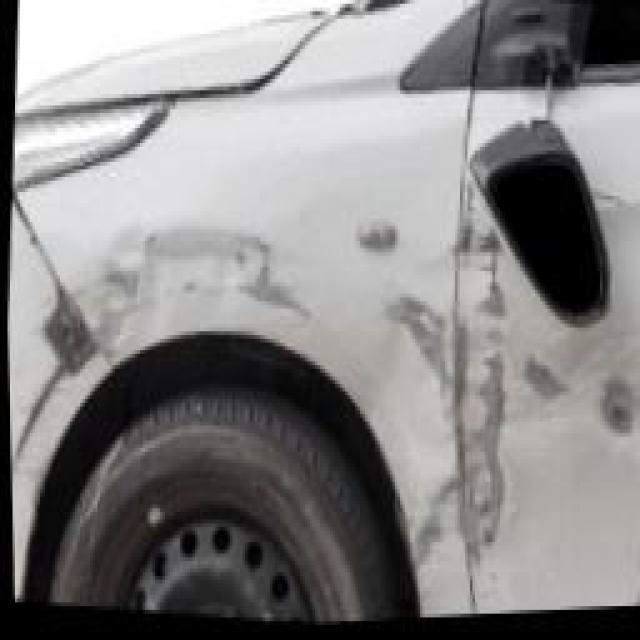Bumper: (5, 237, 91, 557)
Door: (445, 75, 640, 621)
Fender: (82, 49, 467, 423)
